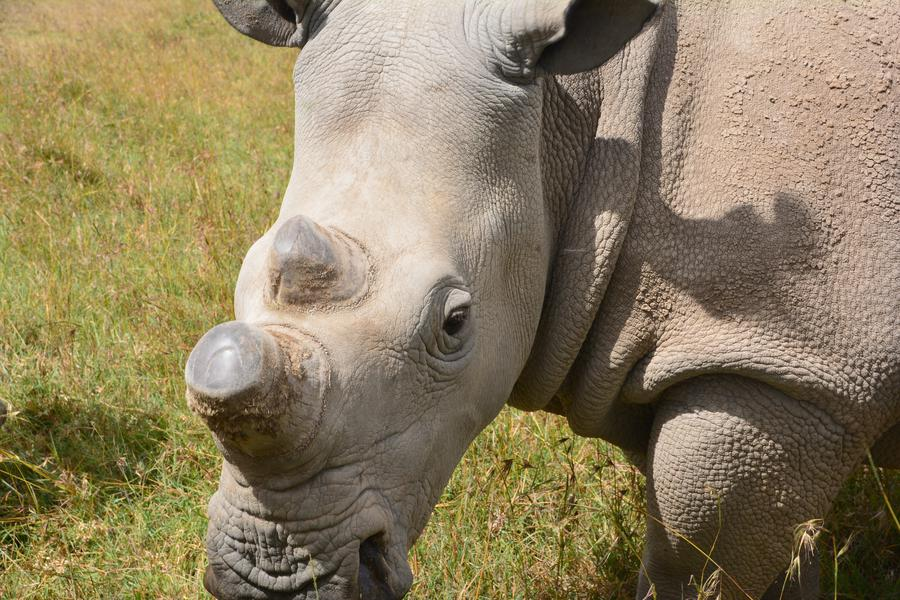rhino: (178, 14, 858, 572)
